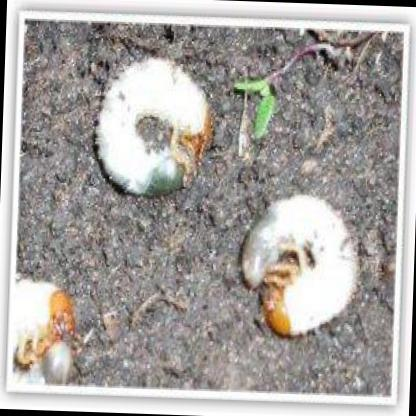root grubs: (237, 193, 360, 340), (97, 57, 213, 199)
